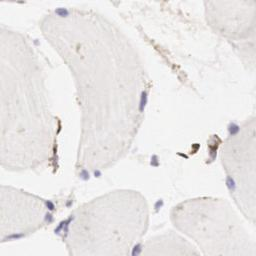nucleus: (53, 6, 71, 19), (225, 174, 237, 193), (226, 121, 240, 137), (139, 88, 148, 112), (152, 198, 166, 213), (131, 242, 146, 256), (1, 234, 25, 242), (55, 216, 65, 235), (77, 169, 91, 180), (65, 218, 74, 235), (44, 212, 54, 225), (149, 155, 159, 168), (44, 200, 56, 210), (94, 167, 102, 177), (210, 153, 216, 162), (33, 38, 39, 45), (54, 157, 59, 164), (67, 200, 72, 206)
positive_cell: (52, 114, 64, 163), (205, 134, 223, 165)
